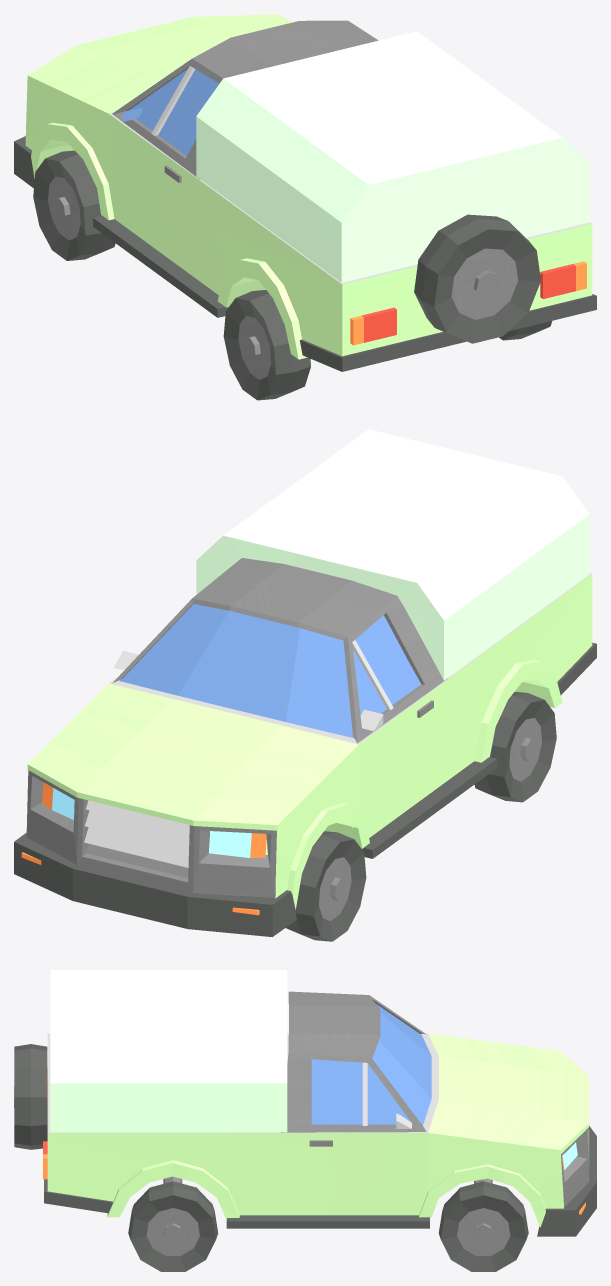
The model's file is transport_jeep.005.glb.
3 views of the same model, one above another, from view 1: azimuth 30°, elevation 25°; view 2: azimuth 150°, elevation 25°; view 3: azimuth 270°, elevation 25° (orthographic). The views are drawn at different scales.
Visible parts, largest first — view 1: transport_jeep.005(Clone); view 2: transport_jeep.005(Clone); view 3: transport_jeep.005(Clone).
Boxes of the visible parts, left/top/right/bottom form: transport_jeep.005(Clone): left=14, top=14, right=596, bottom=400; transport_jeep.005(Clone): left=14, top=429, right=596, bottom=941; transport_jeep.005(Clone): left=14, top=970, right=596, bottom=1271.
Bounding box in the file's own units: 1.76 × 1.54 × 3.87.
1 material, 1 textured.
